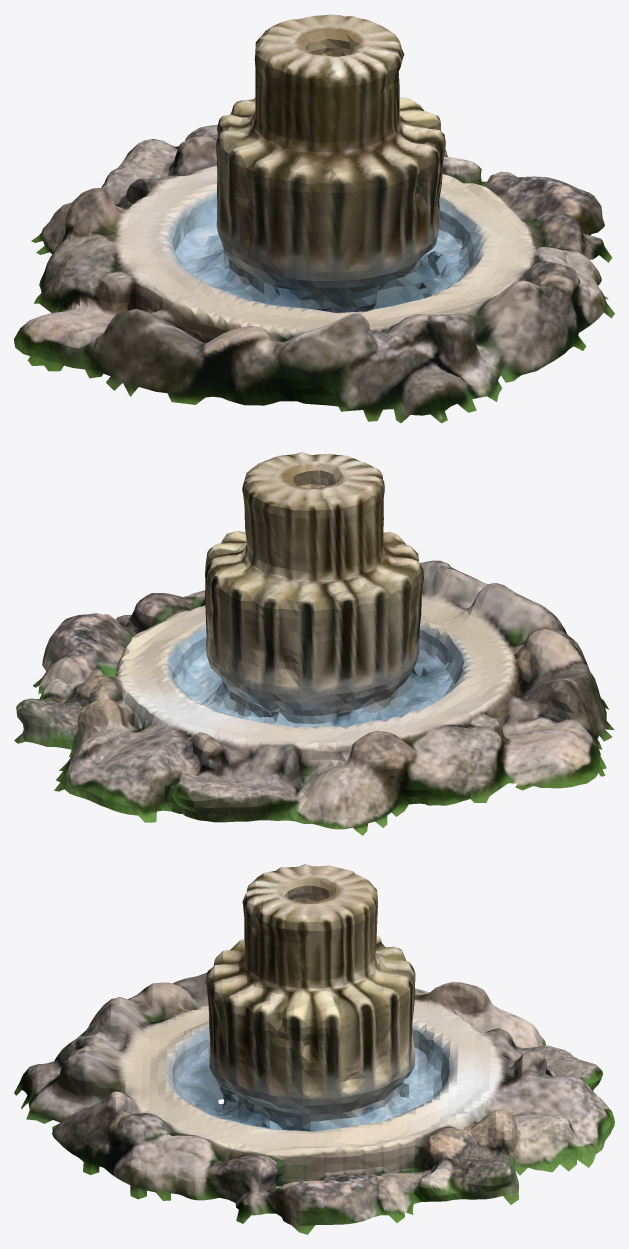
3 renders of one model, top to bottom at view 1: azimuth 30°, elevation 25°; view 2: azimuth 150°, elevation 25°; view 3: azimuth 270°, elevation 25°, orthographic. The views are drawn at different scales.
Size of the model in its own units: 0.366 by 0.1524 by 0.3669.
1 material, 1 textured.
